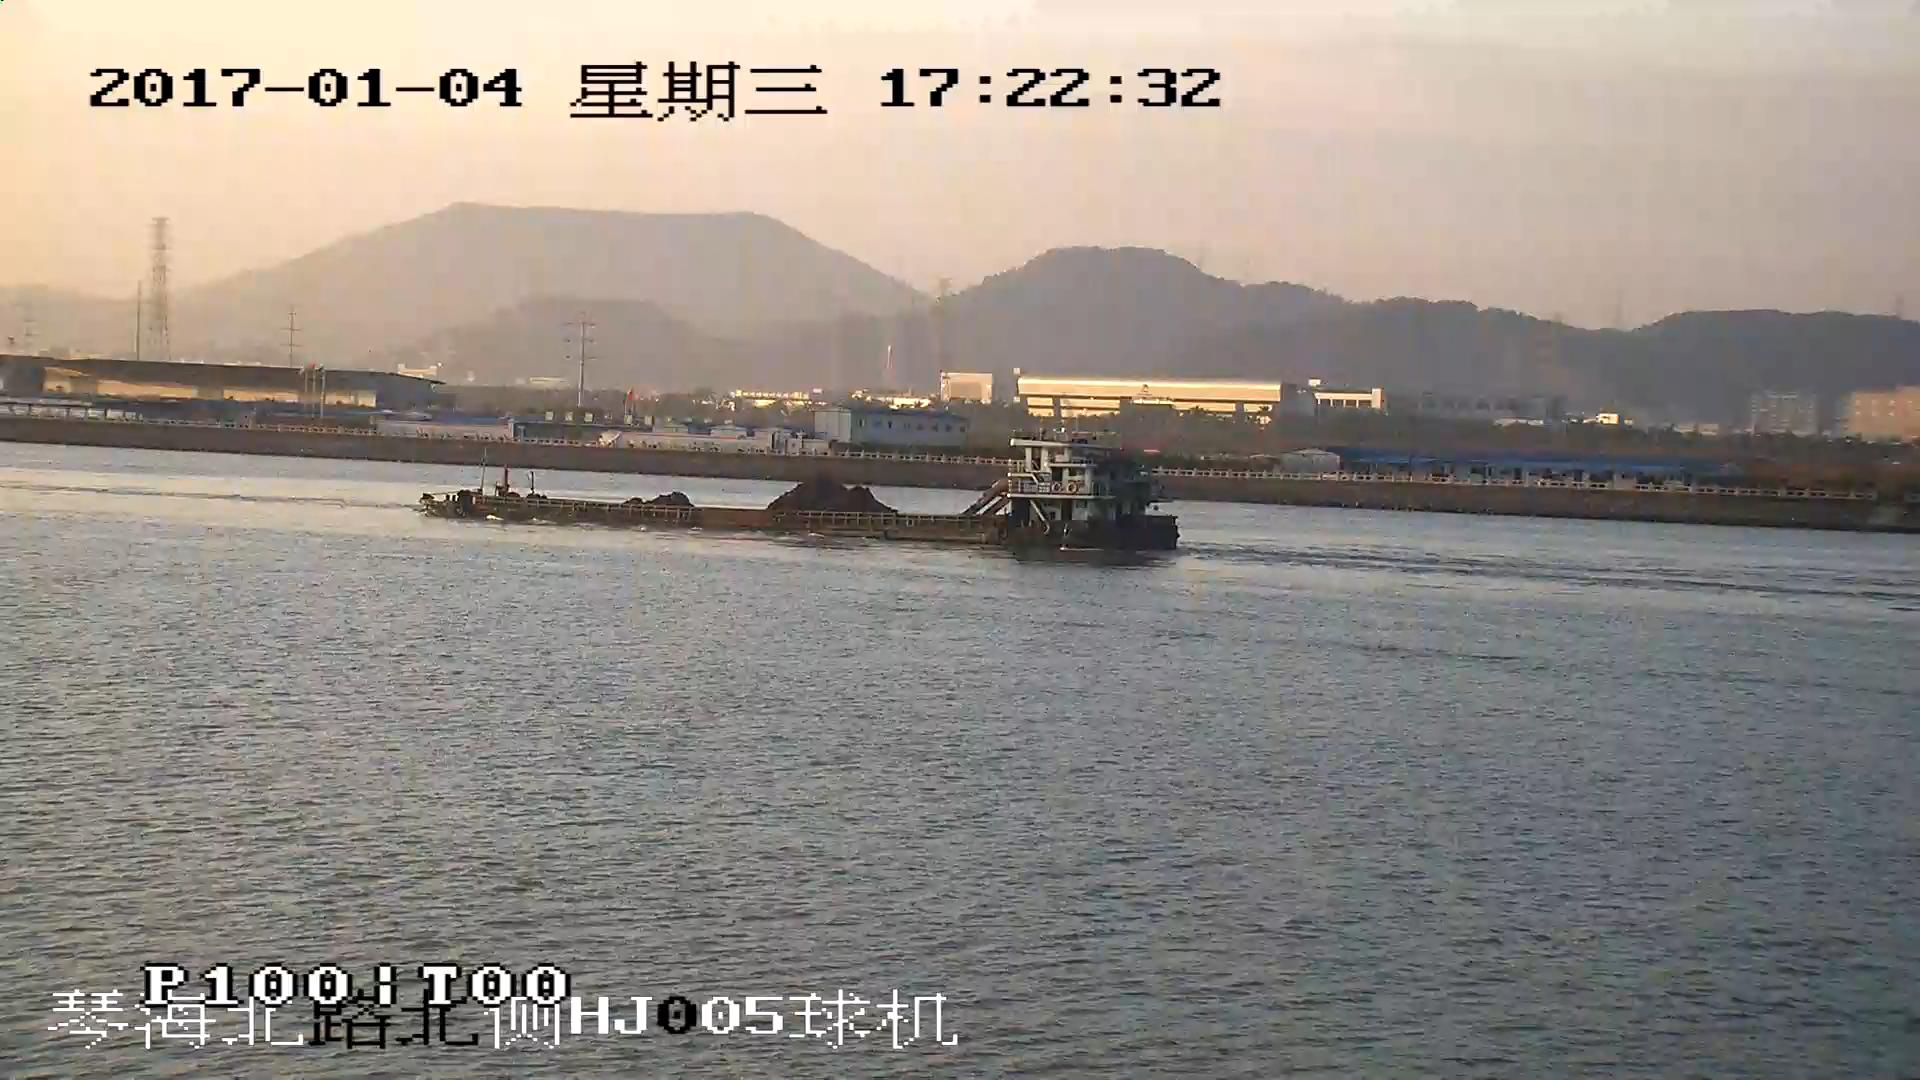ore carrier: (425, 438, 1180, 551)
